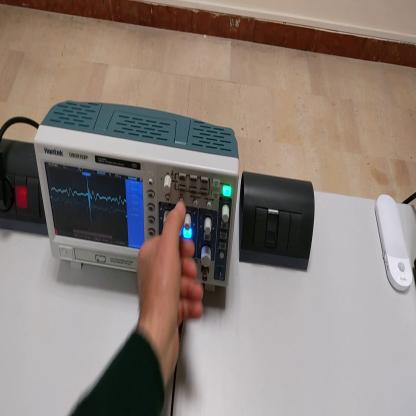hand: (136, 196, 206, 378)
oscilloscope: (34, 99, 241, 291)
socket: (2, 137, 49, 237)
